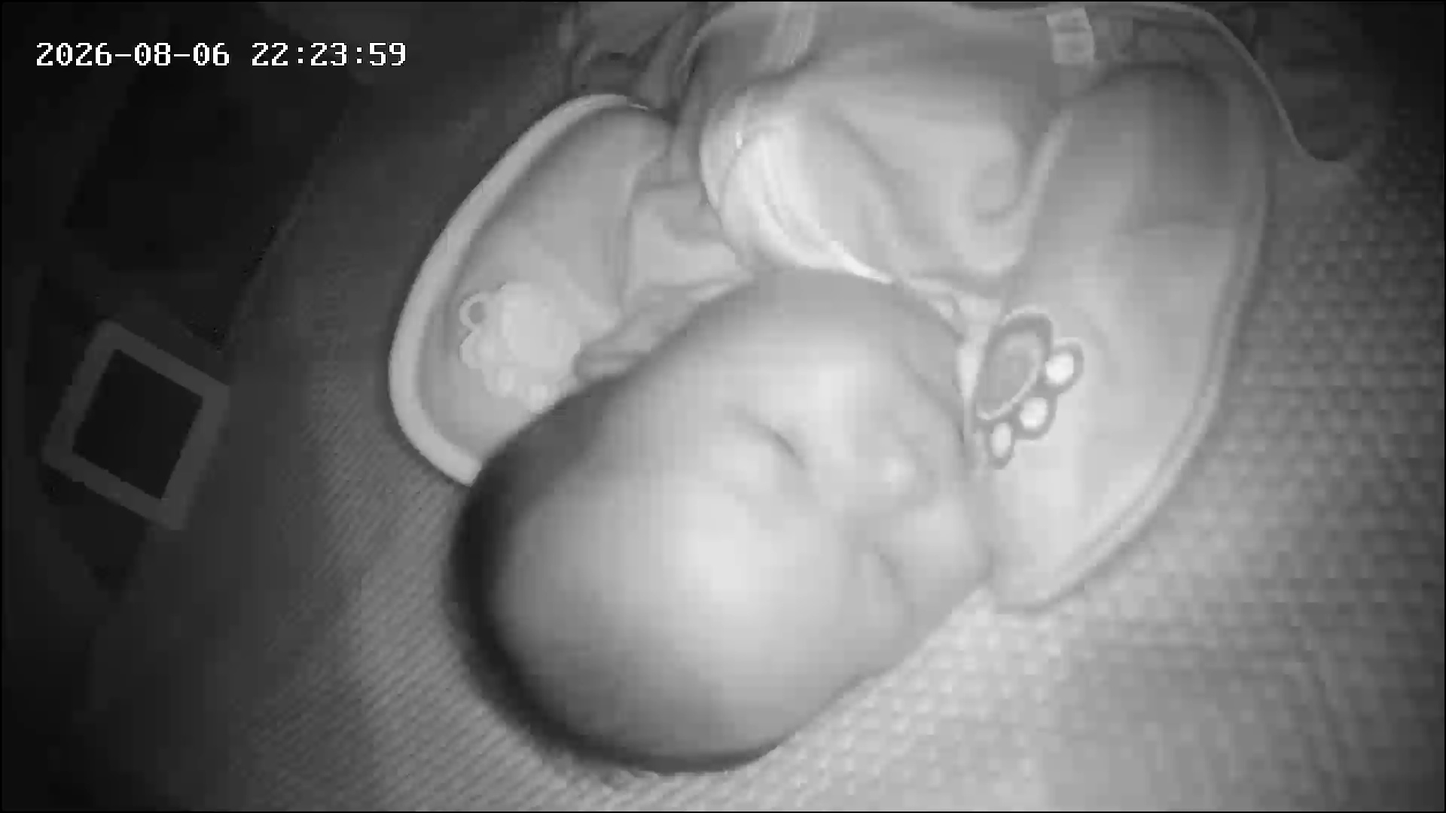baby: (410, 3, 1309, 804)
baby_face: (453, 264, 1001, 788)
